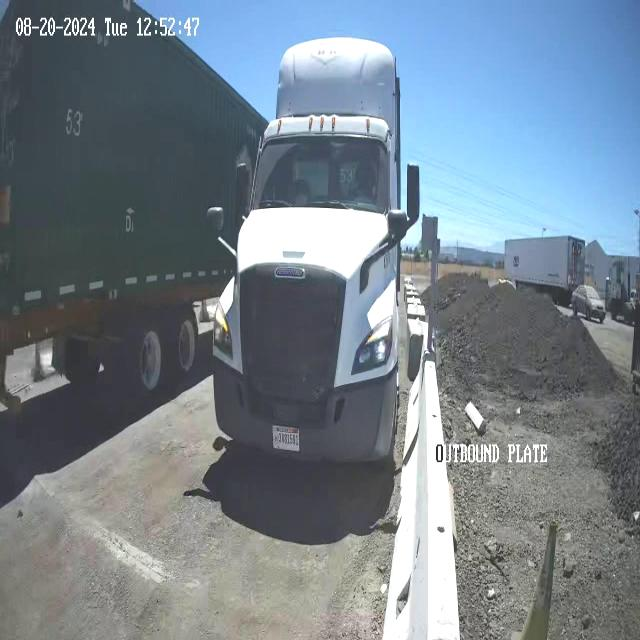CONTAINER: (0, 0, 240, 314)
